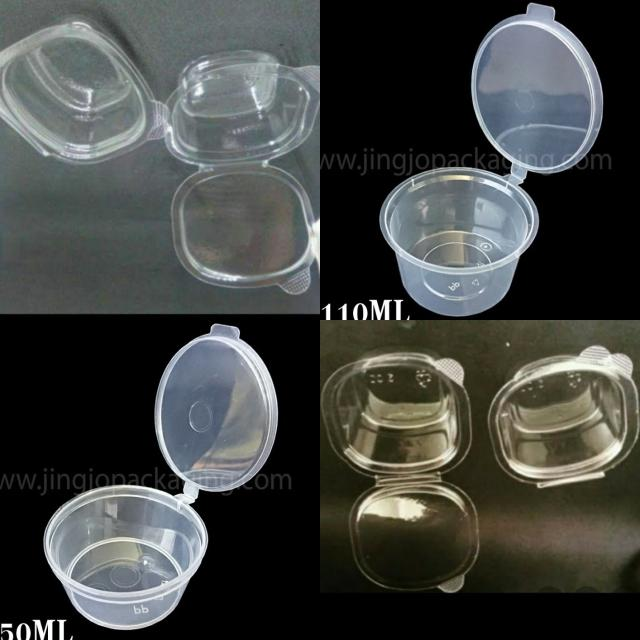Single-Use-Plastic: (381, 4, 602, 316), (321, 352, 479, 592), (165, 51, 319, 295), (0, 19, 164, 164), (45, 485, 208, 630), (488, 346, 640, 488), (155, 324, 278, 491)
